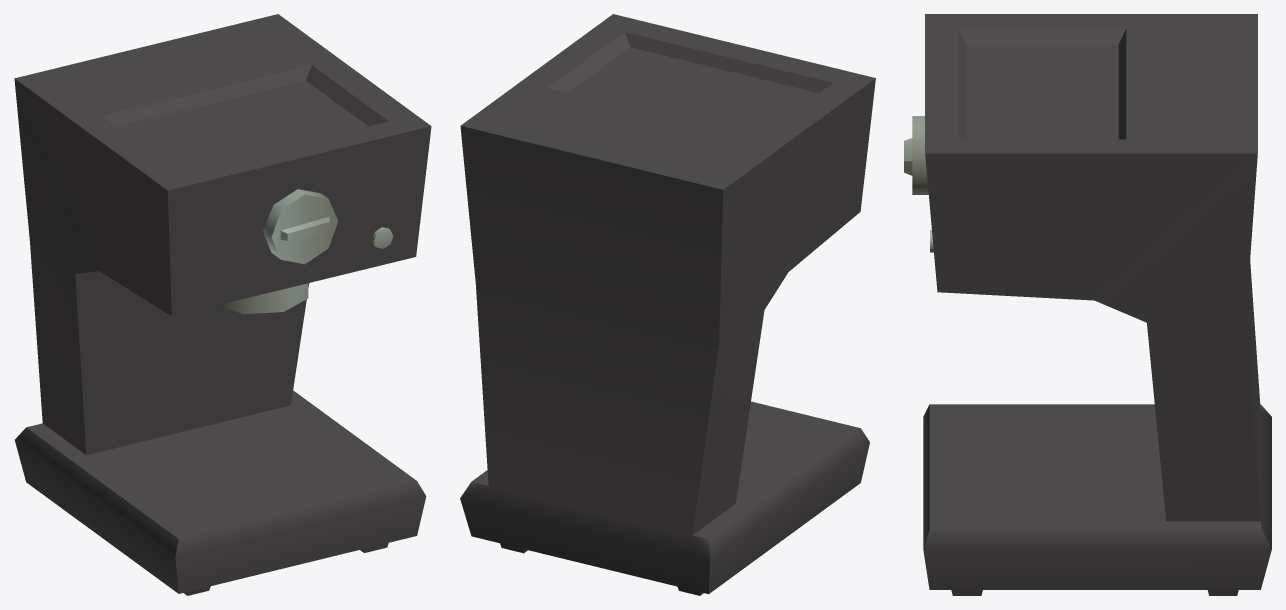
Rendered from SM_Coffee_Machine_01.fbx.
3 views of the same model, side by side, from view 1: azimuth 30°, elevation 25°; view 2: azimuth 150°, elevation 25°; view 3: azimuth 270°, elevation 25° (orthographic). The views are drawn at different scales.
Parts seen in each view (by area): view 1: SM_Coffee_Machine_01; view 2: SM_Coffee_Machine_01; view 3: SM_Coffee_Machine_01.
Part boxes in pixels (<box>): SM_Coffee_Machine_01: <box>14,14,431,595</box>; SM_Coffee_Machine_01: <box>460,14,875,595</box>; SM_Coffee_Machine_01: <box>904,14,1271,595</box>.
Bounding box in the file's own units: 27.27 × 41.78 × 30.34.
